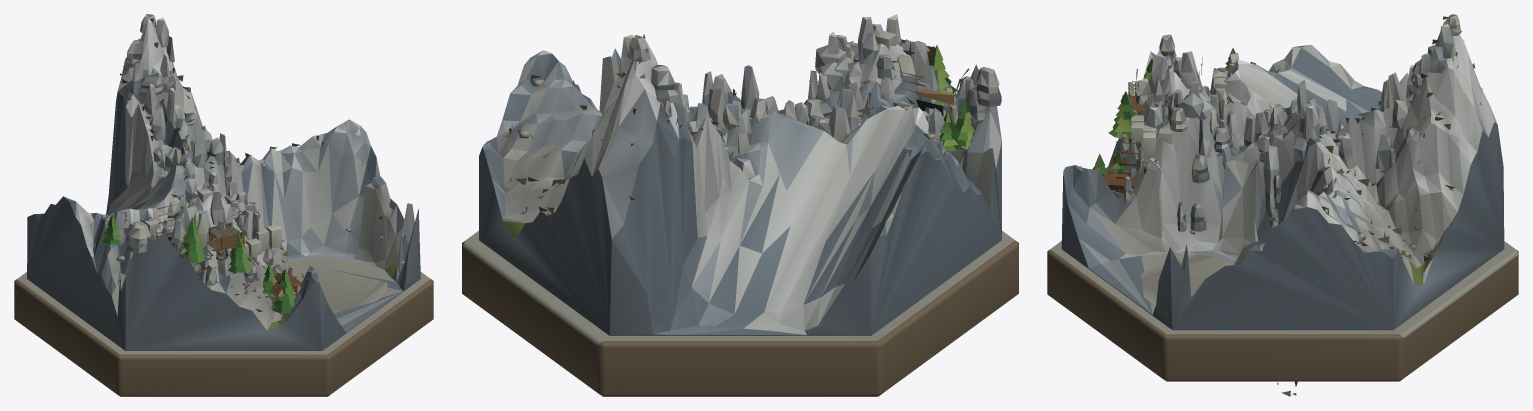
Rendered from tile_stone_lod0.glb.
The picture shows the model from 3 angles, left to right: view 1: azimuth 30°, elevation 25°; view 2: azimuth 150°, elevation 25°; view 3: azimuth 270°, elevation 25°; orthographic projection. The views are drawn at different scales.
Visible parts, largest first — view 1: tile_stone_LOD0; view 2: tile_stone_LOD0; view 3: tile_stone_LOD0.
Boxes of the visible parts, x1=… form: tile_stone_LOD0: x1=14, y1=14, x2=433, y2=396; tile_stone_LOD0: x1=462, y1=14, x2=1018, y2=396; tile_stone_LOD0: x1=1047, y1=14, x2=1518, y2=396.
Bounding box in the file's own units: 1.73 × 1.56 × 1.98.
